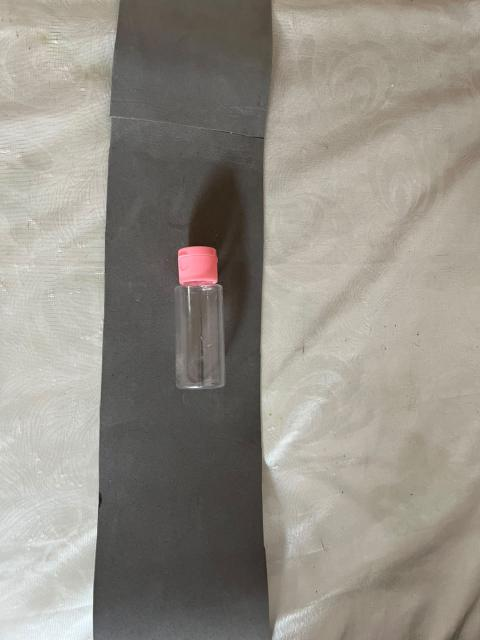PET: (145, 213, 255, 422)
